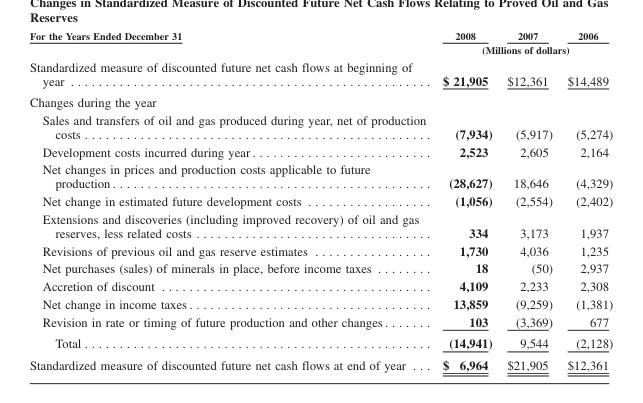table: (28, 29, 612, 371)
table column: (28, 29, 433, 371), (433, 29, 499, 371), (499, 29, 559, 371), (559, 29, 612, 371)
table column header: (28, 29, 612, 57)
table projected row header: (28, 90, 612, 110)
table row: (28, 57, 612, 90), (28, 110, 612, 142), (28, 209, 612, 241), (28, 160, 612, 191), (28, 332, 612, 353), (28, 90, 612, 110), (28, 312, 612, 332), (28, 142, 612, 160), (28, 191, 612, 209), (28, 241, 612, 259), (28, 276, 612, 294), (28, 294, 612, 312), (28, 353, 612, 371), (28, 259, 612, 276), (28, 42, 612, 57), (28, 29, 612, 42)
table spanning cell: (28, 29, 433, 57), (433, 42, 612, 57)
